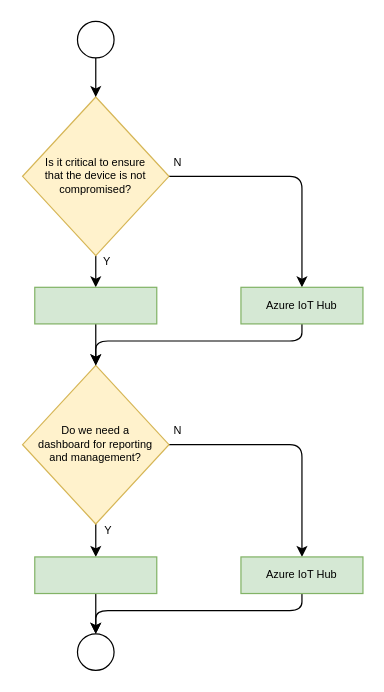
The diagram is 384 pixels wide and 692 high, and some of its shapes have lost their labels. Each missing label, with the box of its shape:
Azure IoT Central: (34, 556, 157, 594)
Azure Sphere: (34, 286, 157, 324)
